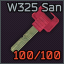Health Resort west wing room 325 key: (0, 0, 64, 64)
